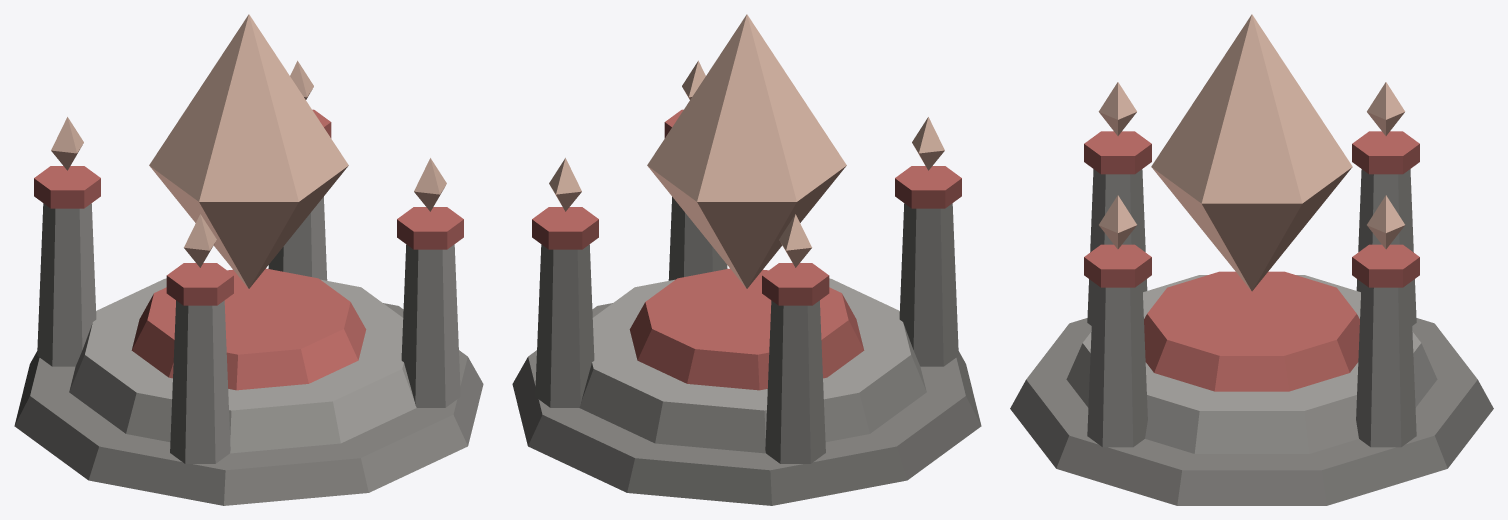
The model's file is nexus_red.glb.
3 renders of one model, left to right at view 1: azimuth 30°, elevation 25°; view 2: azimuth 150°, elevation 25°; view 3: azimuth 270°, elevation 25°, orthographic.
Bounding box in the file's own units: 5.71 × 5.4 × 6.
